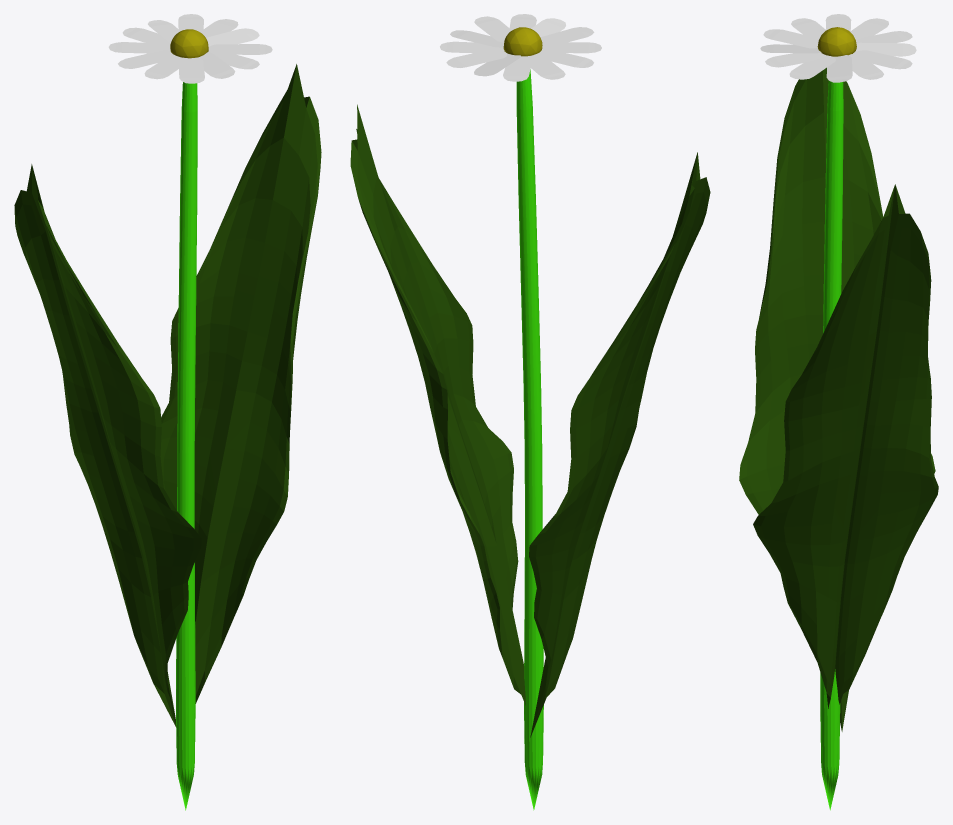
The model's file is DaisyFlowerindSDM2.fbx.
3 views of the same model, side by side, from view 1: azimuth 30°, elevation 25°; view 2: azimuth 150°, elevation 25°; view 3: azimuth 270°, elevation 25° (orthographic).
Visible parts, largest first — view 1: Plane.002, Plane.013, Cylinder.002, Icosphere, Plane.012, Plane, Plane.003, Plane.005, Plane.009, Plane.010; view 2: Plane.002, Plane.013, Cylinder.002, Icosphere, Plane; view 3: Plane.002, Plane.013, Cylinder.002, Icosphere, Plane.007, Plane.008, Plane.009, Plane.012, Plane.003, Plane.004, Plane.011, Plane.001 (+3 smaller).
Part boxes in pixels (bbox=[...]): Plane.002: bbox=[160, 64, 321, 703]; Plane.013: bbox=[14, 164, 201, 727]; Cylinder.002: bbox=[176, 82, 197, 810]; Icosphere: bbox=[170, 29, 208, 58]; Plane.012: bbox=[206, 28, 259, 46]; Plane: bbox=[118, 50, 177, 68]; Plane.003: bbox=[208, 44, 272, 54]; Plane.005: bbox=[198, 52, 235, 78]; Plane.009: bbox=[179, 57, 204, 83]; Plane.010: bbox=[144, 56, 188, 79]; Plane.002: bbox=[350, 104, 525, 705]; Plane.013: bbox=[529, 152, 710, 737]; Cylinder.002: bbox=[516, 69, 543, 810]; Icosphere: bbox=[503, 27, 542, 56]; Plane: bbox=[534, 49, 593, 67]; Plane.002: bbox=[753, 184, 938, 708]; Plane.013: bbox=[739, 67, 935, 731]; Cylinder.002: bbox=[820, 81, 843, 810]; Icosphere: bbox=[817, 27, 856, 56]; Plane.007: bbox=[854, 42, 916, 56]; Plane.008: bbox=[853, 50, 912, 69]; Plane.009: bbox=[763, 29, 818, 48]; Plane.012: bbox=[826, 55, 852, 82]; Plane.003: bbox=[789, 55, 835, 79]; Plane.004: bbox=[765, 52, 827, 67]; Plane.011: bbox=[849, 54, 883, 79]; Plane.001: bbox=[850, 18, 888, 40].
Size of the model in its own units: 177 by 415 by 95.52.
